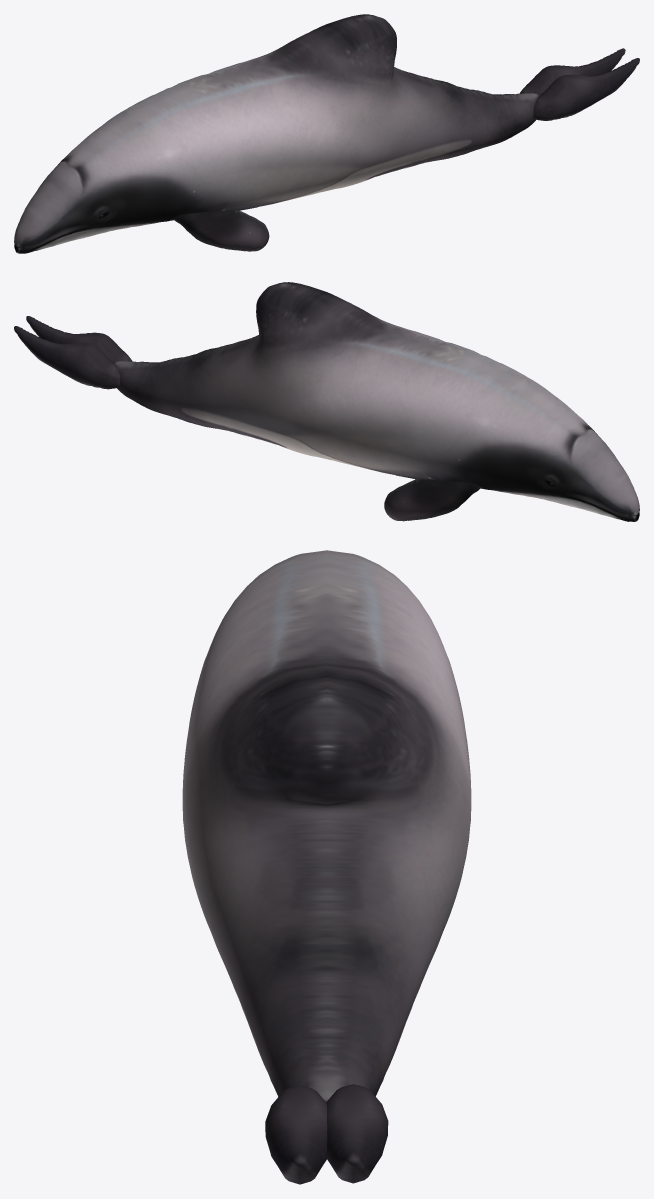
The model's file is hectors-dolphin.glb.
3 views of the same model, one above another, from view 1: azimuth 30°, elevation 25°; view 2: azimuth 150°, elevation 25°; view 3: azimuth 270°, elevation 25° (orthographic). The views are drawn at different scales.
Visible parts, largest first — view 1: mm_frame (23); view 2: mm_frame (23); view 3: mm_frame (23).
Part boxes in pixels (bbox=[...]): mm_frame (23): bbox=[14, 14, 639, 253]; mm_frame (23): bbox=[14, 282, 639, 521]; mm_frame (23): bbox=[182, 550, 471, 1184].
Bounding box in the file's own units: 9.49 × 2.77 × 1.92.
Materials: 1 (1 with a texture image).
